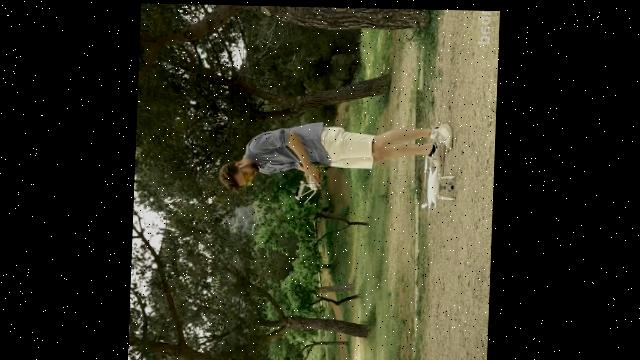drone: (416, 153, 459, 219)
